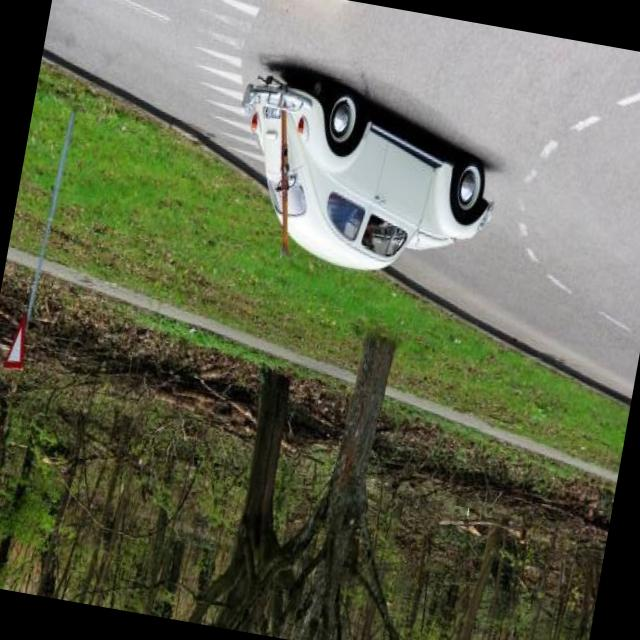car: (220, 69, 504, 291)
